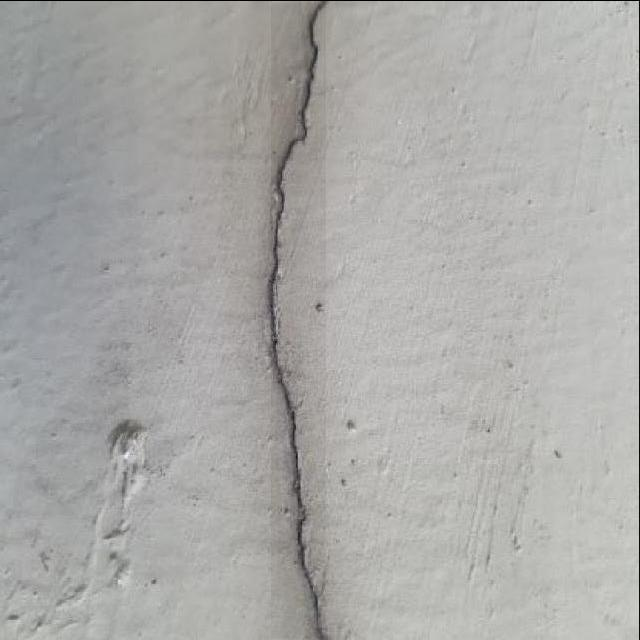crack: (266, 1, 328, 637)
